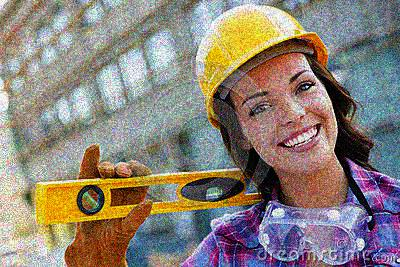helmet: (193, 2, 342, 174)
